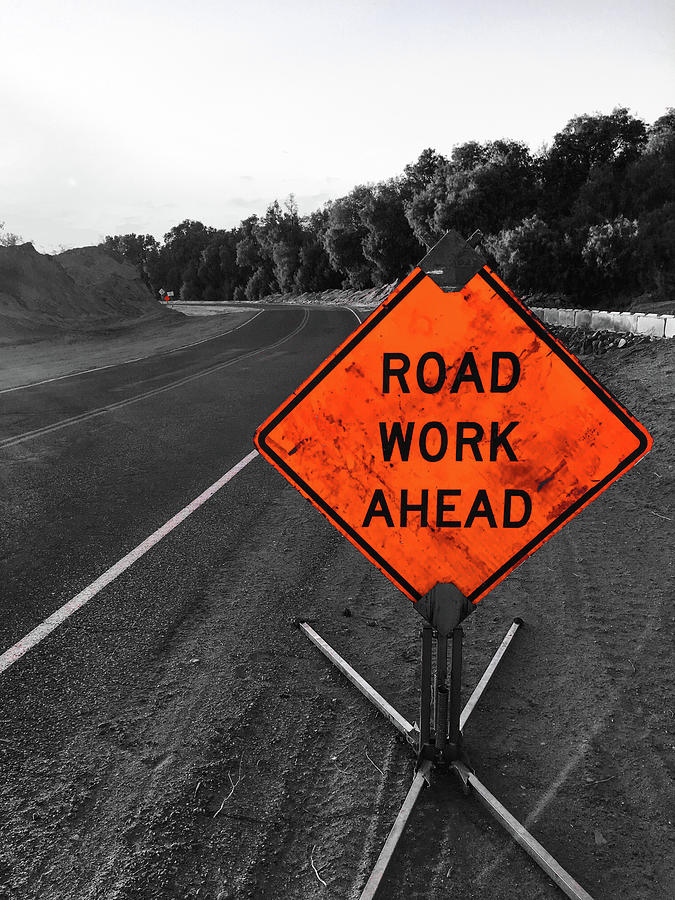Road_workahead: (258, 234, 656, 634)
